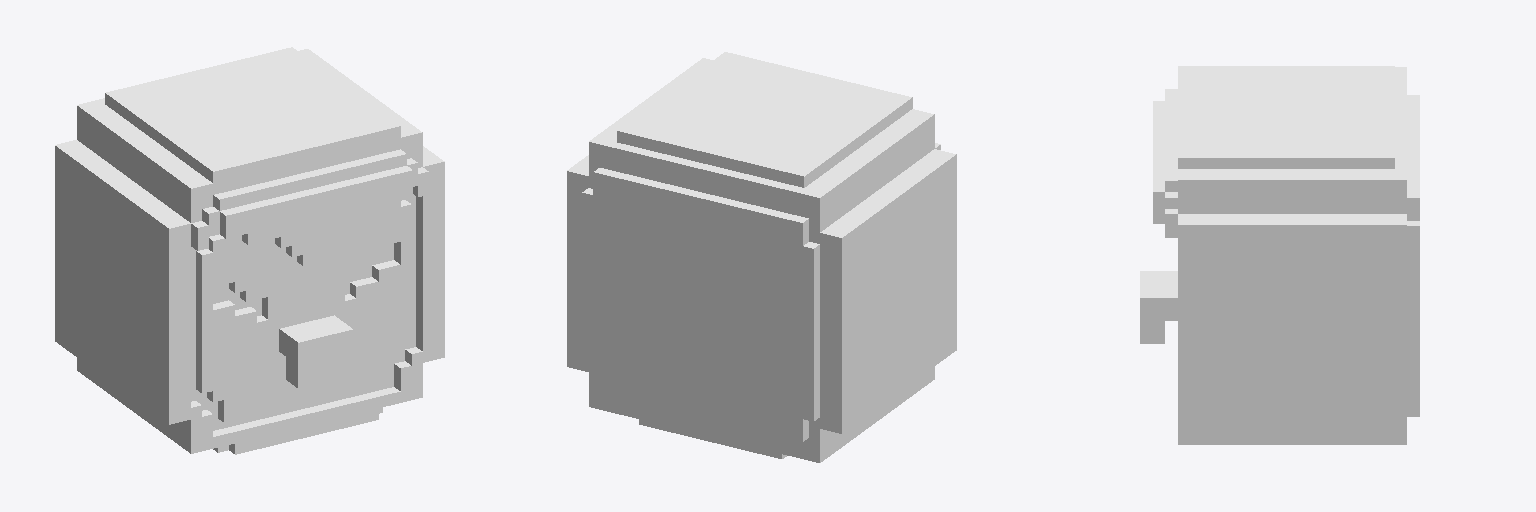
File: HEAD4.obj
The picture shows the model from 3 angles: view 1: azimuth 30°, elevation 25°; view 2: azimuth 150°, elevation 25°; view 3: azimuth 270°, elevation 25°; orthographic projection.
Visible parts, largest first — view 1: object 1; view 2: object 1; view 3: object 1.
Boxes of the visible parts, x1,y1,x2,y2 form: object 1: [55, 47, 444, 454]; object 1: [567, 52, 956, 462]; object 1: [1140, 66, 1419, 444].
Bounding box in the file's own units: 2.5 × 2.5 × 2.2.